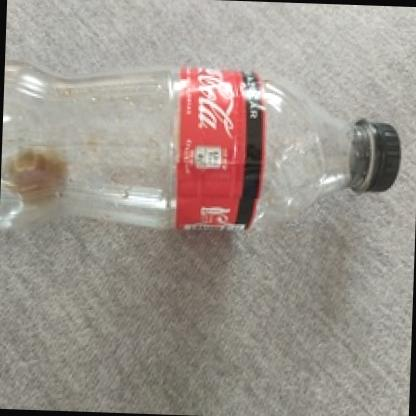plastic_bottles: (0, 57, 404, 236)
